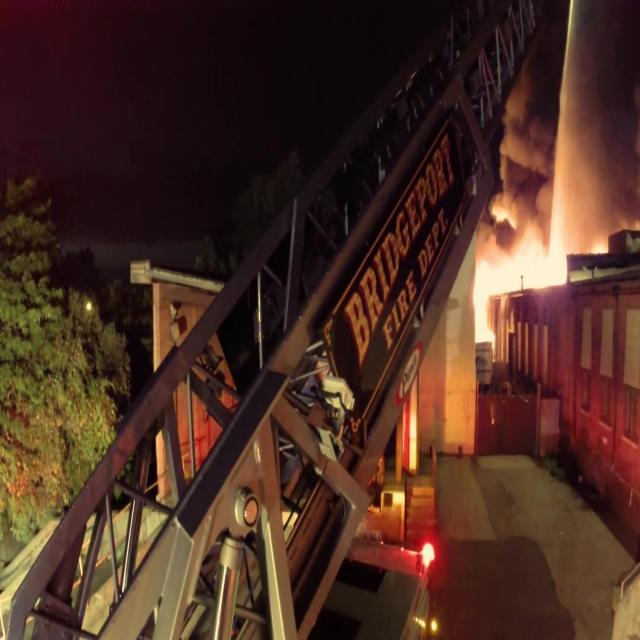Fire: (472, 231, 602, 363)
Smoke: (471, 0, 637, 325)
